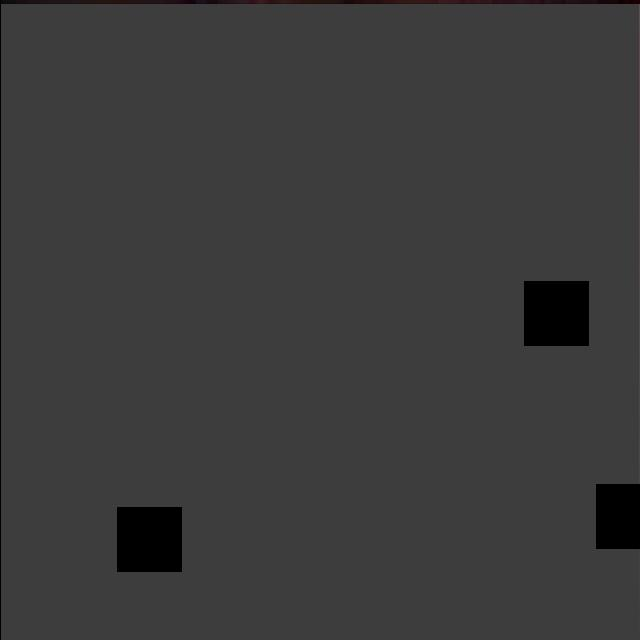smoke: (0, 4, 639, 640)
